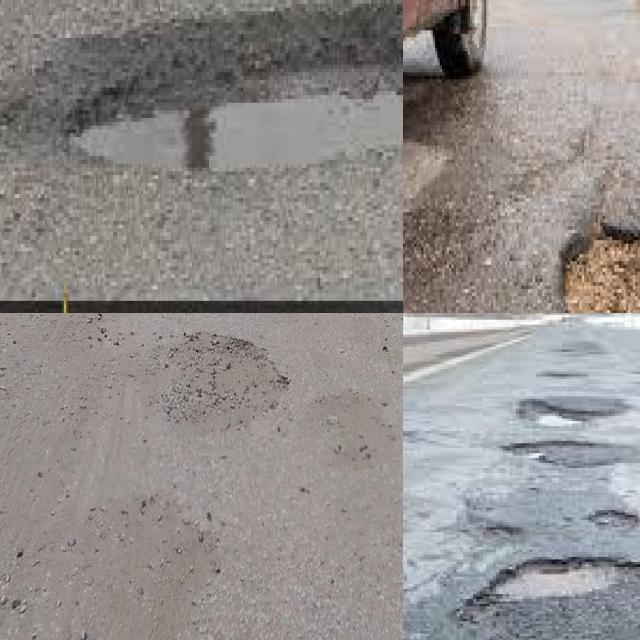Pothole: (79, 46, 403, 171), (143, 328, 291, 434), (300, 388, 403, 480), (463, 557, 640, 609)
